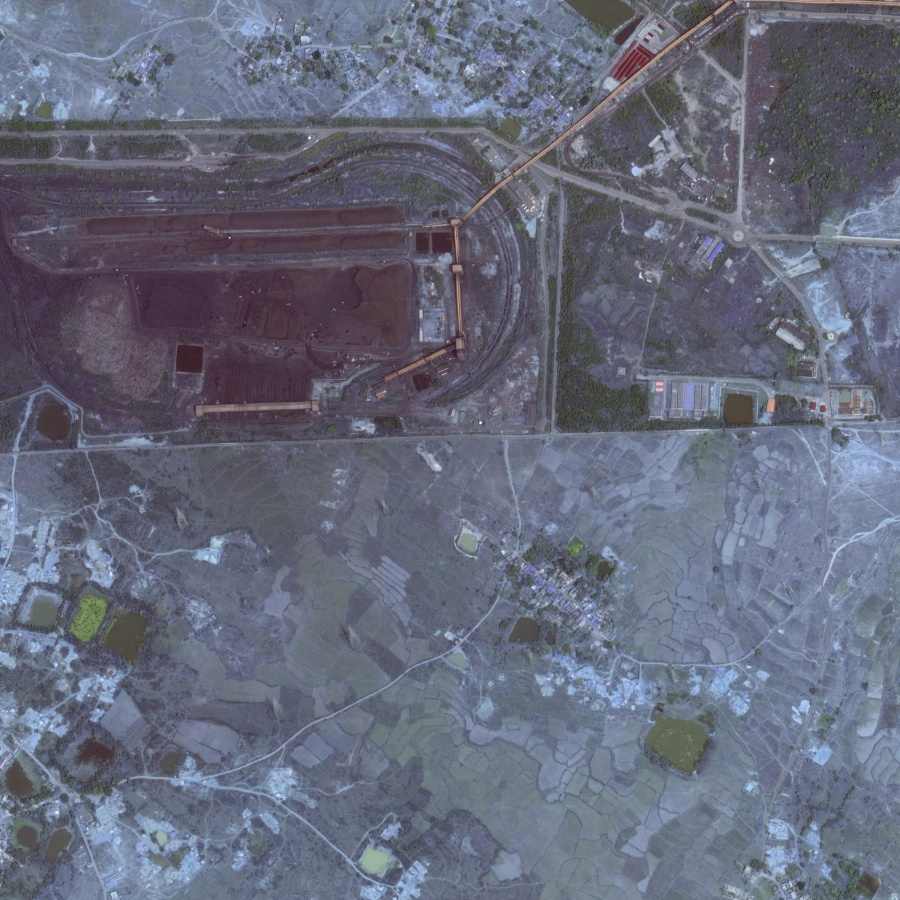PowerPlant: (11, 183, 522, 439)
